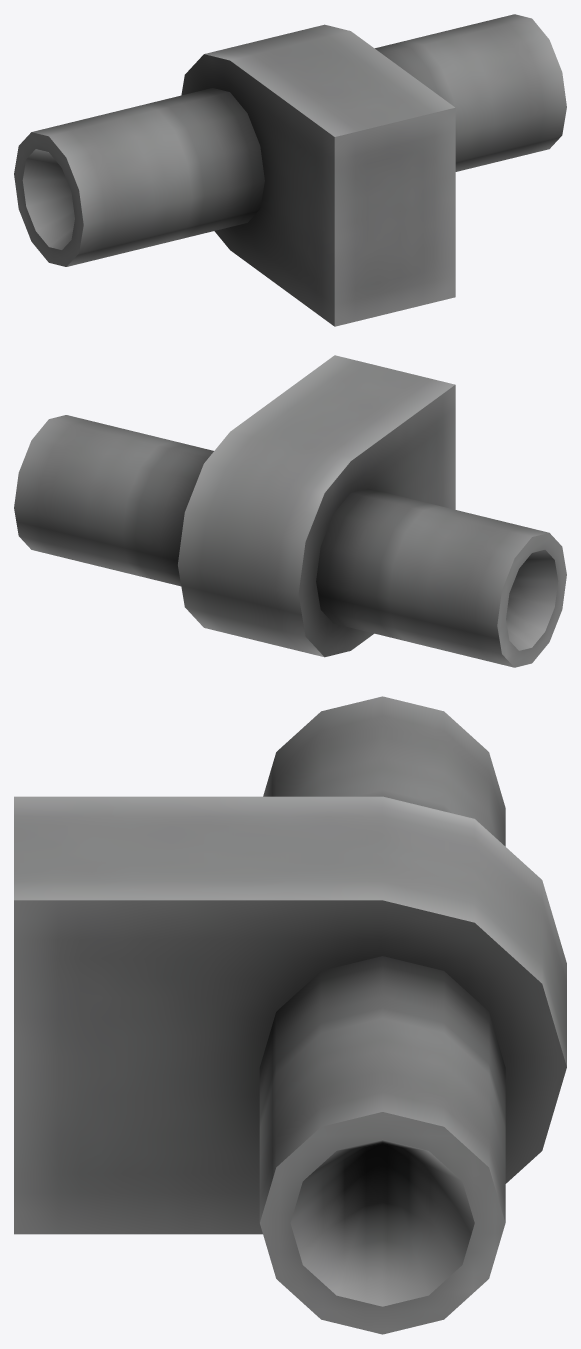
Rendered from octans_basic_rcs_srf_3.obj.
The picture shows the model from 3 angles, top to bottom: view 1: azimuth 30°, elevation 25°; view 2: azimuth 150°, elevation 25°; view 3: azimuth 270°, elevation 25°; orthographic projection. The views are drawn at different scales.
Visible parts, largest first — view 1: mesh; view 2: mesh; view 3: mesh.
Boxes of the visible parts, x1=… form: mesh: x1=14, y1=14, x2=566, y2=326; mesh: x1=14, y1=355, x2=566, y2=667; mesh: x1=14, y1=696, x2=566, y2=1334.
Size of the model in its own units: 0.2 by 0.075 by 0.1125.
